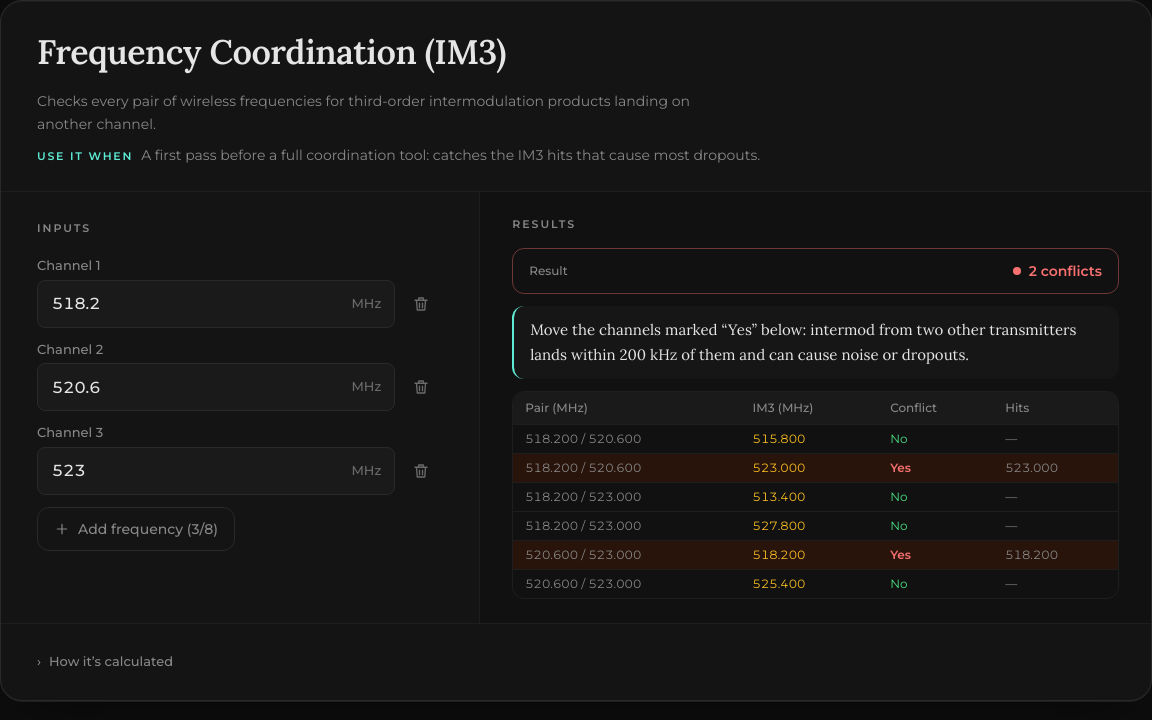
calculator interactions › flags IM3 conflicts and lets you add frequencies
Expected: the text "2 conflicts" is shown, [1013,261,1102,281]
Click the button "Add frequency (3/8)": point(136, 529) [37,507,235,551]
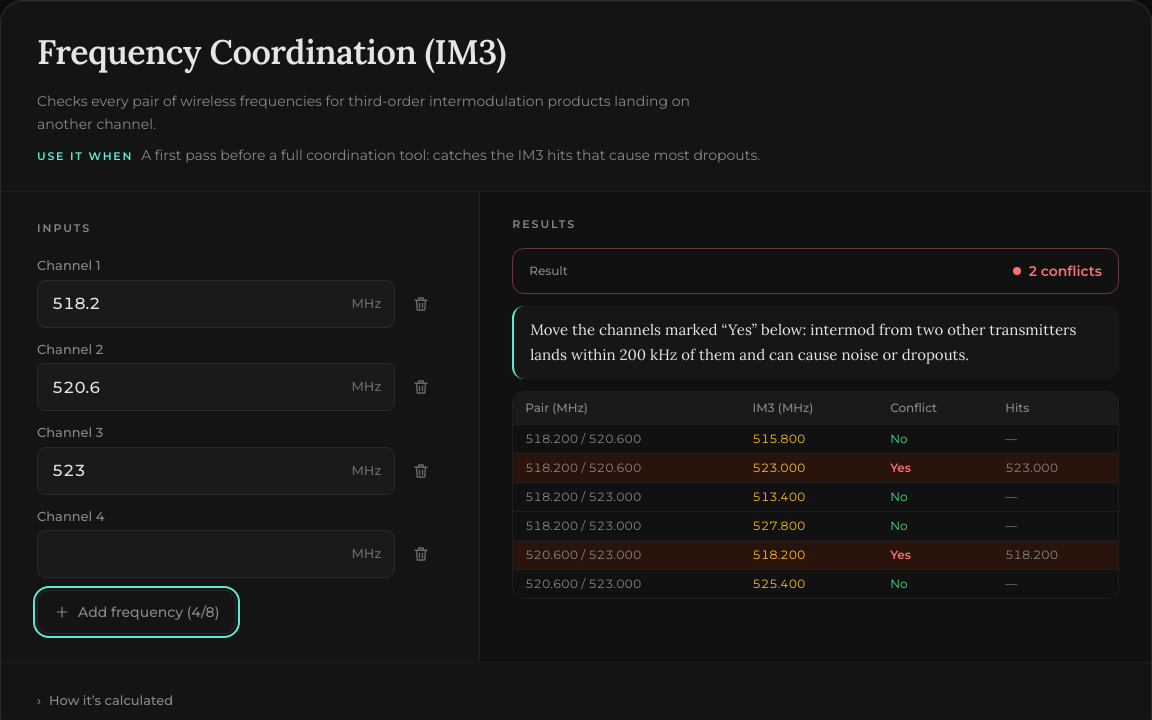
Expected: the field labelled "Channel 4" is shown, [37,530,395,578]
